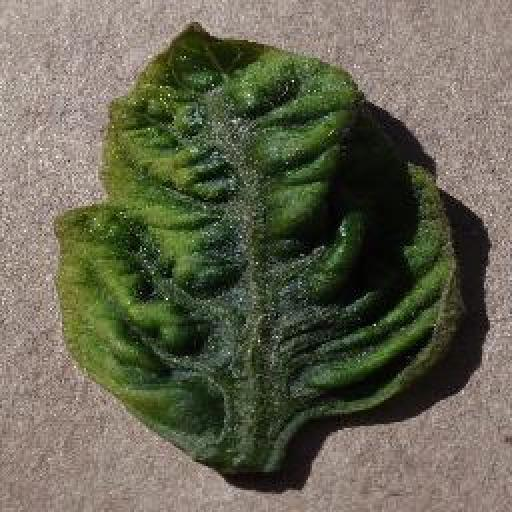disease_tomato: (52, 20, 460, 480)
